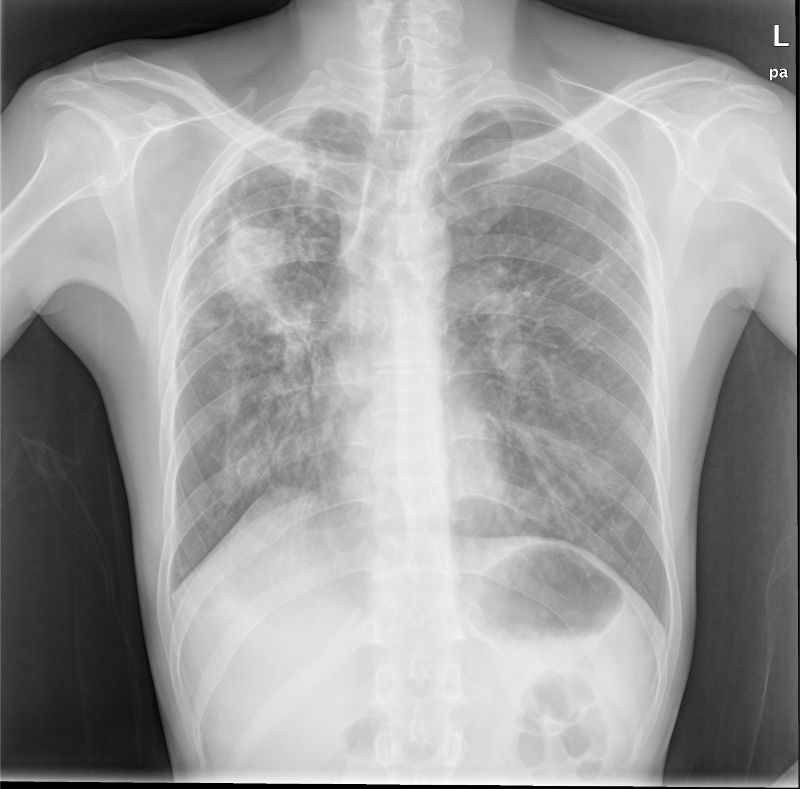Tuberculosis (TB): (204, 190, 312, 379)
